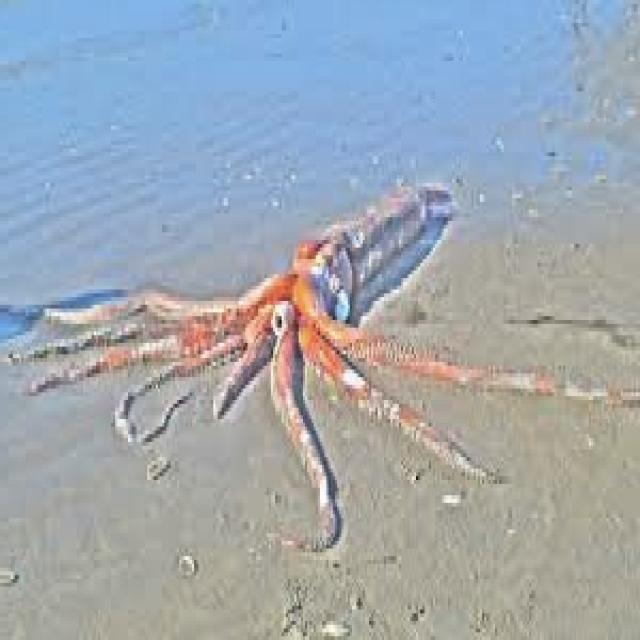squid: (11, 183, 562, 541)
